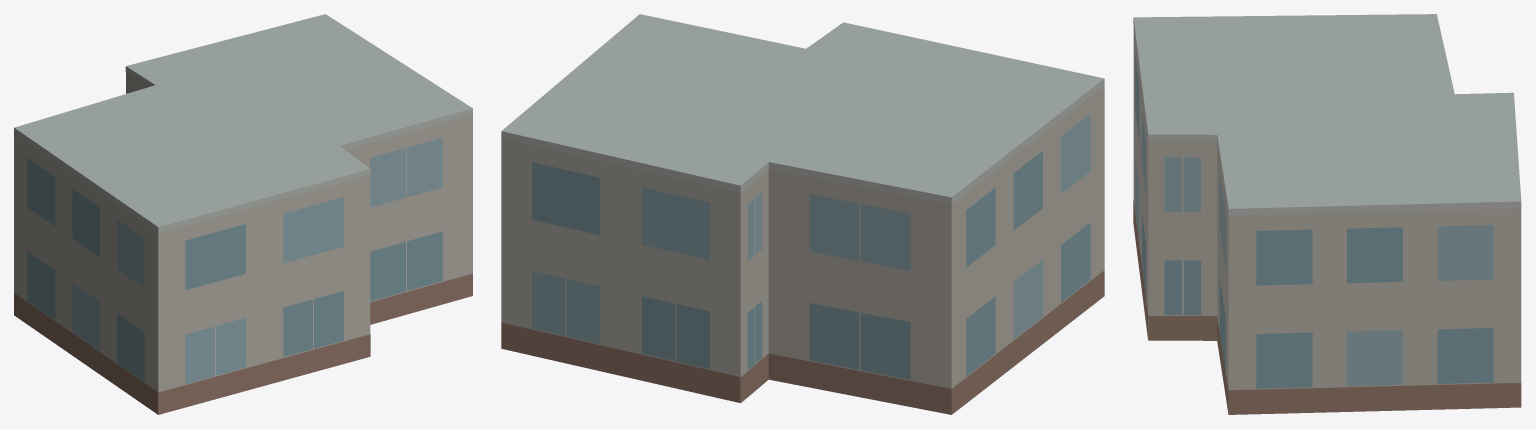
Rendered from survey-upis-33045293.glb.
The picture shows the model from 3 angles, left to right: view 1: azimuth 30°, elevation 25°; view 2: azimuth 150°, elevation 25°; view 3: azimuth 270°, elevation 25°; orthographic projection. The views are drawn at different scales.
Parts seen in each view (by area): view 1: survey-upis-33045293.tmp; view 2: survey-upis-33045293.tmp; view 3: survey-upis-33045293.tmp.
Boxes of the visible parts, bbox=[...] form: survey-upis-33045293.tmp: bbox=[14, 14, 472, 414]; survey-upis-33045293.tmp: bbox=[501, 14, 1104, 414]; survey-upis-33045293.tmp: bbox=[1133, 14, 1521, 414].
Size of the model in its own units: 15.43 by 7.6 by 12.98.
